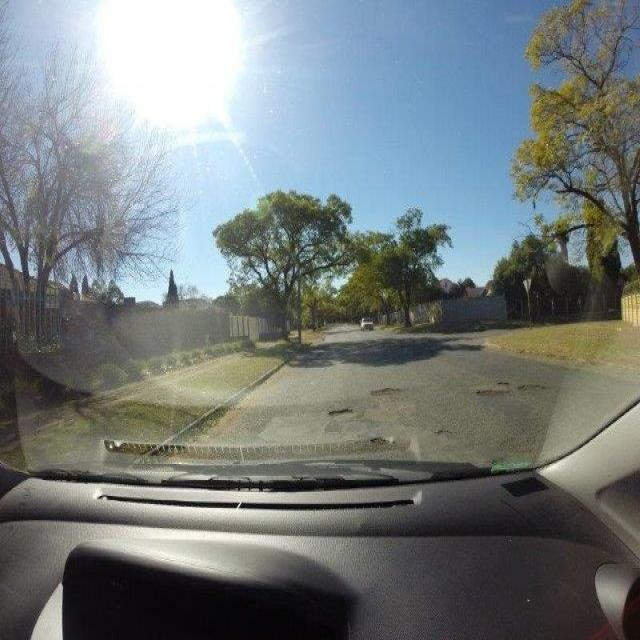lubang: (470, 380, 507, 401), (362, 383, 411, 396), (515, 378, 546, 398), (432, 422, 452, 448), (366, 435, 397, 449), (325, 405, 360, 416)
